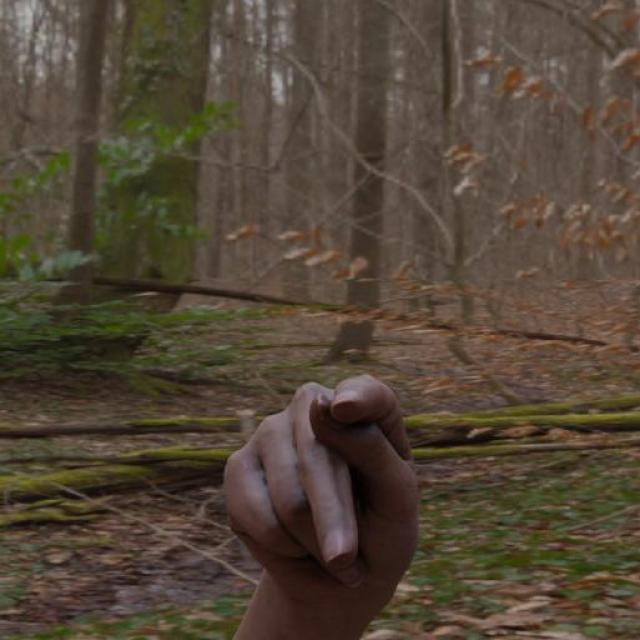P: (188, 329, 466, 640)
